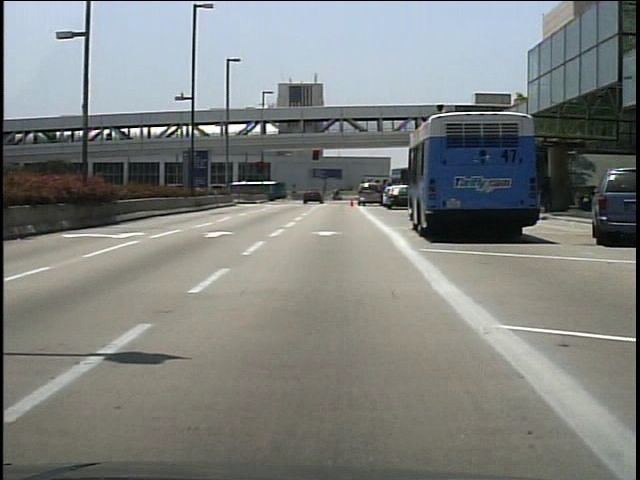person: (542, 175, 557, 211), (333, 188, 345, 202), (331, 187, 341, 202)
